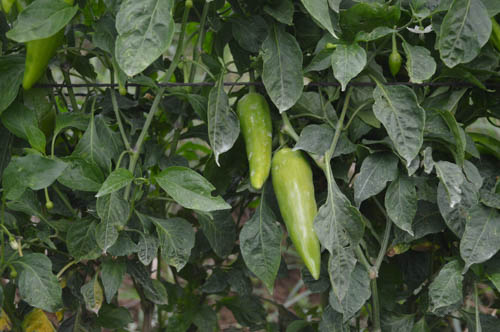ChiliPepper: (277, 148, 323, 276), (239, 95, 272, 188)
